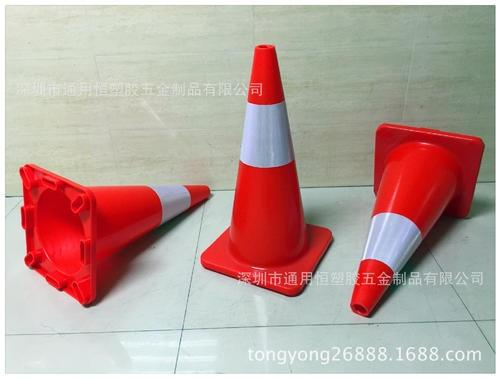cone_barrel: (14, 167, 214, 303), (344, 131, 470, 325), (214, 47, 322, 271)
